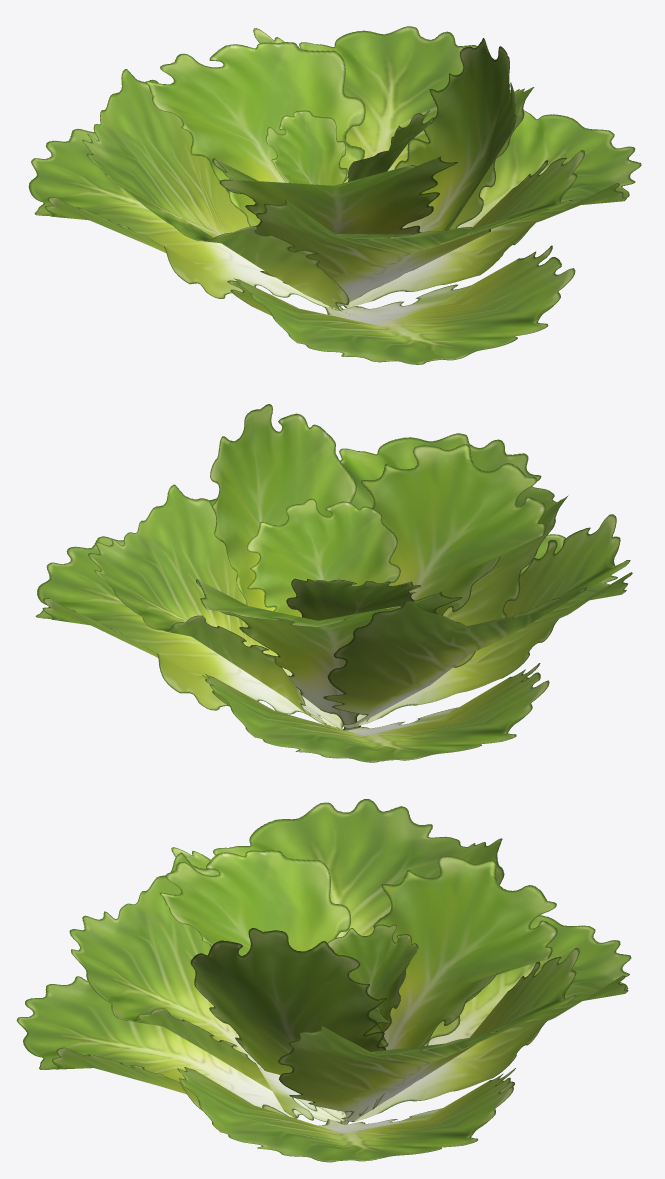
File: plant_lettuce_S3.fbx
3 renders of one model, top to bottom at view 1: azimuth 30°, elevation 25°; view 2: azimuth 150°, elevation 25°; view 3: azimuth 270°, elevation 25°, orthographic. The views are drawn at different scales.
Visible parts, largest first — view 1: plant_lettuce_S3; view 2: plant_lettuce_S3; view 3: plant_lettuce_S3.
Boxes of the visible parts, left/top/right/bottom form: plant_lettuce_S3: left=28, top=26, right=641, bottom=364; plant_lettuce_S3: left=35, top=404, right=632, bottom=762; plant_lettuce_S3: left=16, top=799, right=631, bottom=1162.
Bounding box in the file's own units: 0.3723 × 0.1776 × 0.3737.
